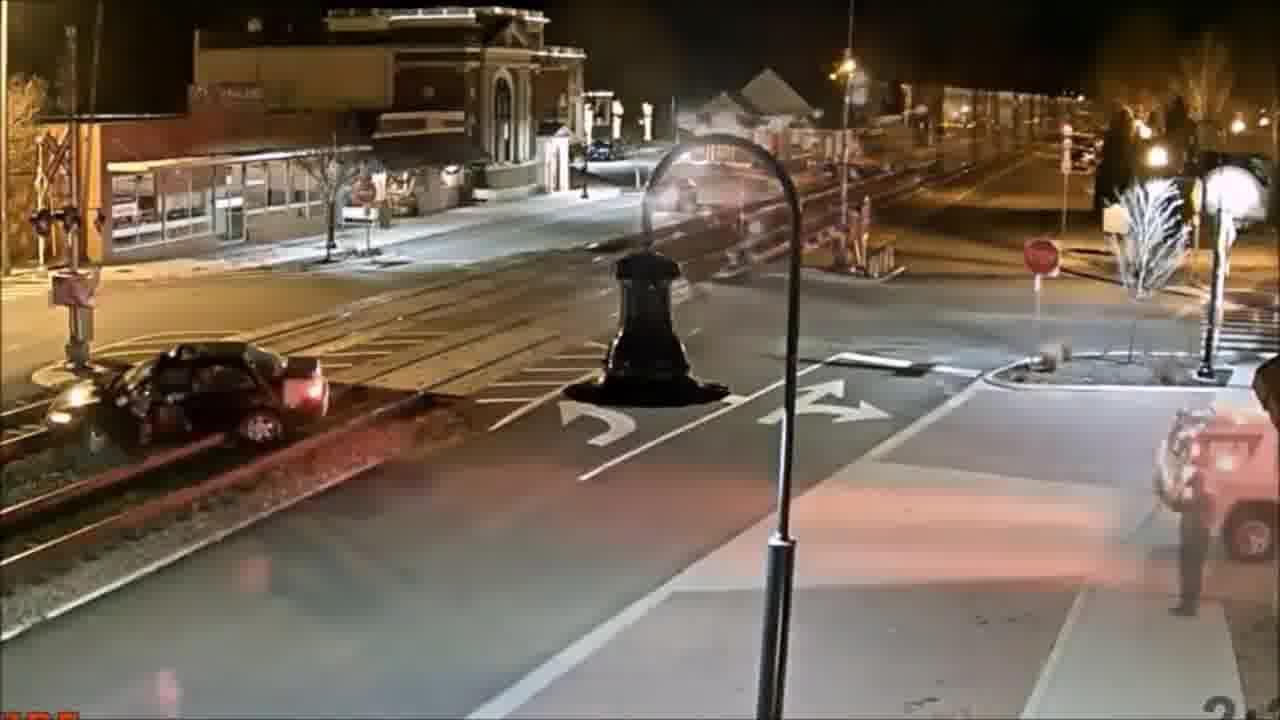crossing railway track: (43, 330, 327, 475)
